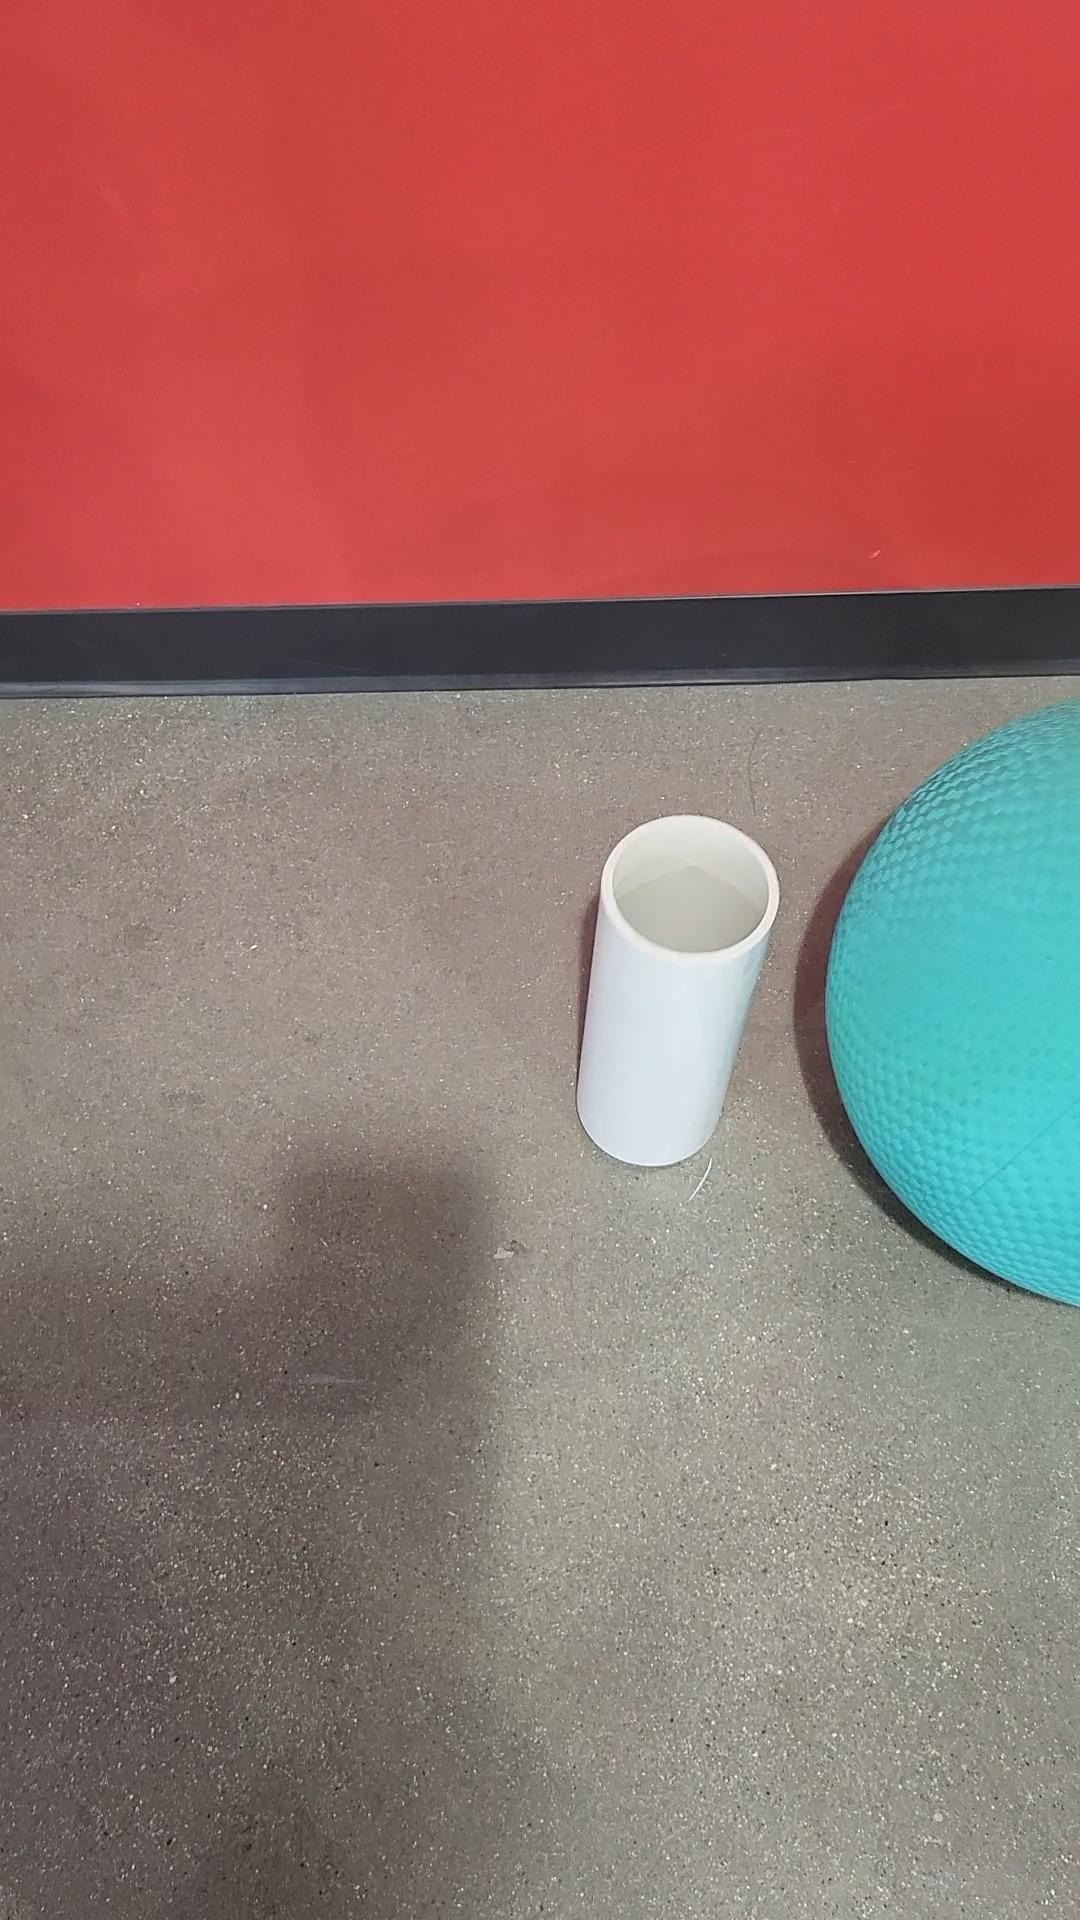algae: (811, 694, 1079, 1313)
coral: (575, 810, 783, 1170)
